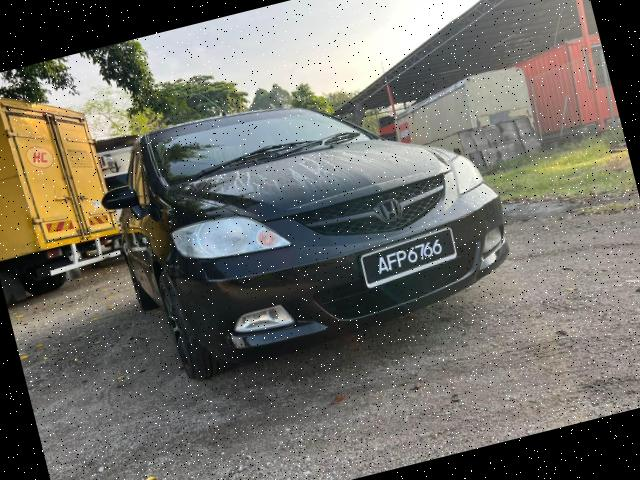License_Plate: (362, 232, 458, 282)
